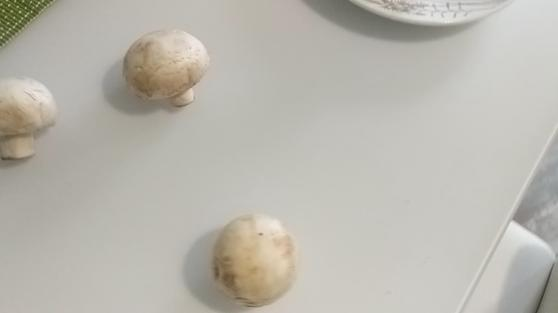champignon: (211, 214, 300, 307), (124, 26, 209, 119), (1, 77, 71, 164)
